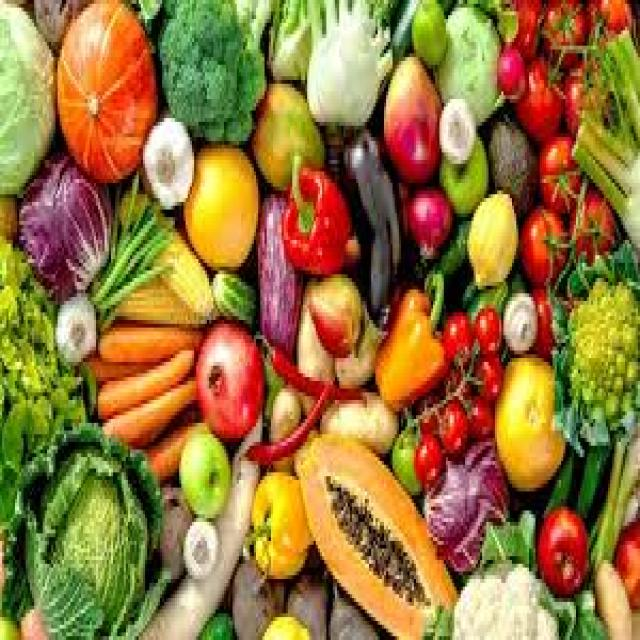organic waste: (0, 0, 638, 636), (0, 415, 164, 636), (292, 426, 459, 628), (130, 404, 263, 636), (55, 0, 160, 179), (548, 236, 638, 442), (565, 23, 638, 263), (154, 0, 271, 145), (0, 350, 87, 529), (15, 149, 111, 297), (420, 431, 510, 579), (120, 183, 213, 316), (326, 476, 424, 602), (337, 126, 399, 312), (305, 0, 395, 122), (0, 0, 55, 194), (373, 262, 444, 408), (433, 0, 516, 118), (177, 141, 258, 255), (491, 354, 563, 480), (96, 183, 166, 312), (250, 324, 364, 400), (450, 560, 559, 636), (237, 373, 335, 457), (277, 149, 350, 259), (241, 469, 312, 575), (250, 80, 324, 179), (94, 347, 194, 419), (199, 316, 258, 438), (380, 54, 439, 175), (256, 183, 299, 347), (0, 236, 53, 369), (102, 262, 200, 328), (589, 438, 638, 560), (98, 385, 199, 442), (303, 270, 365, 362), (137, 114, 194, 210), (318, 381, 397, 449), (488, 103, 538, 206), (465, 183, 514, 286), (177, 423, 230, 518), (228, 549, 284, 636), (79, 346, 198, 384), (422, 210, 470, 304), (151, 476, 192, 583), (512, 53, 563, 137), (538, 499, 584, 591), (290, 290, 335, 384), (518, 202, 566, 286), (379, 0, 454, 53), (264, 0, 316, 76), (438, 134, 487, 214), (330, 301, 376, 385), (98, 324, 203, 358), (563, 57, 604, 141), (540, 0, 589, 69), (143, 419, 200, 476), (288, 564, 333, 636), (403, 186, 452, 252), (572, 438, 610, 522), (570, 183, 614, 255), (538, 129, 580, 202), (544, 583, 599, 636), (209, 266, 256, 328), (390, 416, 427, 492), (326, 587, 382, 636), (482, 510, 536, 560), (55, 293, 96, 358), (435, 92, 476, 156), (596, 560, 630, 636), (499, 286, 538, 346), (542, 450, 578, 514), (458, 271, 508, 316), (258, 350, 286, 430), (582, 0, 630, 46), (183, 510, 216, 576), (439, 301, 474, 362), (531, 278, 561, 347), (32, 0, 81, 42), (268, 384, 298, 450), (412, 0, 444, 61), (616, 514, 638, 602), (412, 427, 442, 488), (440, 392, 470, 453), (495, 38, 525, 92), (463, 385, 493, 434), (512, 0, 540, 50), (258, 610, 307, 636), (194, 610, 237, 636), (425, 598, 452, 636), (17, 602, 47, 636), (472, 351, 499, 388), (414, 388, 437, 431), (472, 301, 497, 339), (0, 190, 15, 240), (439, 370, 463, 392), (0, 606, 17, 636), (621, 488, 638, 514)
